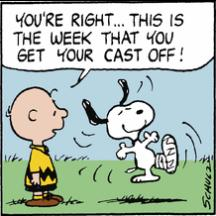charlie: (5, 84, 70, 206)
snoopy: (80, 77, 180, 183)
